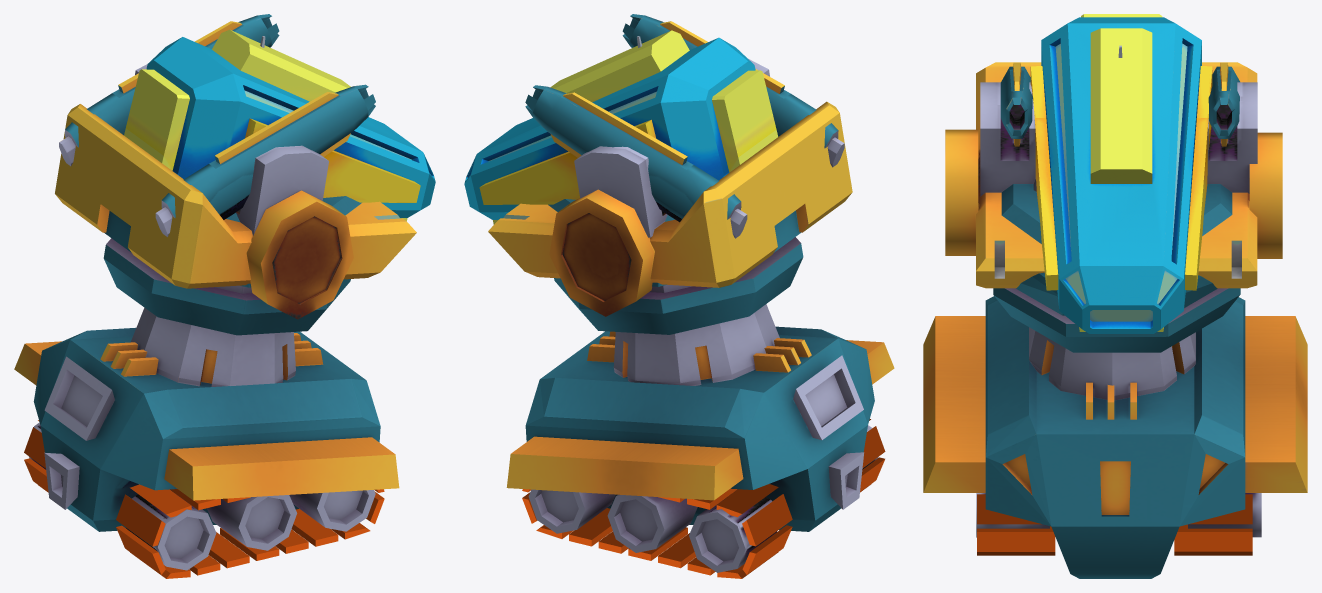
Rendered from Player_moving_upgrade1.obj.
3 renders of one model, left to right at view 1: azimuth 30°, elevation 25°; view 2: azimuth 150°, elevation 25°; view 3: azimuth 270°, elevation 25°, orthographic. The views are drawn at different scales.
Parts seen in each view (by area): view 1: Object015, Object014, Box009, Box017, Box016; view 2: Object015, Object014, Box009, Box016, Box017; view 3: Object015, Object014, Box017, Box016, Box009.
Boxes of the visible parts, x1,y1,x2,y2 form: Object015: (14,29,435,531); Object014: (59,14,375,236); Box009: (29,422,375,570); Box017: (116,484,384,578); Box016: (24,420,48,492); Object015: (464,30,894,531); Object014: (525,14,844,238); Box009: (528,425,878,572); Box016: (522,484,792,578); Box017: (860,419,885,492); Object015: (923,14,1307,578); Object014: (1000,62,1239,146); Box017: (977,494,1055,555); Box016: (1174,494,1252,555); Box009: (976,493,1261,537).
Size of the model in its own units: 70.38 by 88.9 by 59.78.
5 materials, 3 textured.
